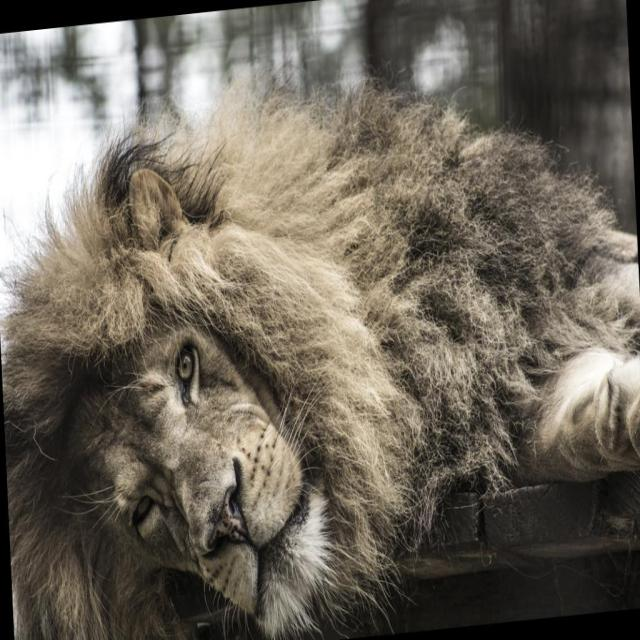Lion: (0, 7, 639, 639)
